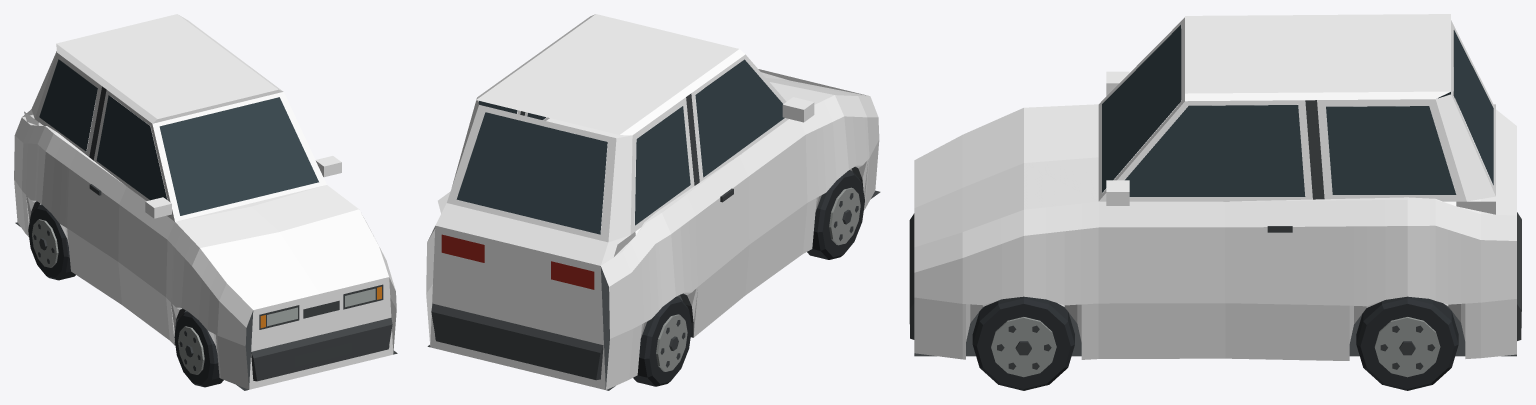
The model's file is tomoe_kogarashi.glb.
The picture shows the model from 3 angles, left to right: view 1: azimuth 30°, elevation 25°; view 2: azimuth 150°, elevation 25°; view 3: azimuth 270°, elevation 25°; orthographic projection. The views are drawn at different scales.
Visible parts, largest first — view 1: tomoe_kogarashi; view 2: tomoe_kogarashi; view 3: tomoe_kogarashi.
Boxes of the visible parts, x1=… form: tomoe_kogarashi: x1=14, y1=14, x2=397, y2=390; tomoe_kogarashi: x1=426, y1=14, x2=880, y2=390; tomoe_kogarashi: x1=909, y1=14, x2=1521, y2=390.
Bounding box in the file's own units: 1.47 × 1.62 × 3.16.
Materials: 8 (1 with a texture image).
